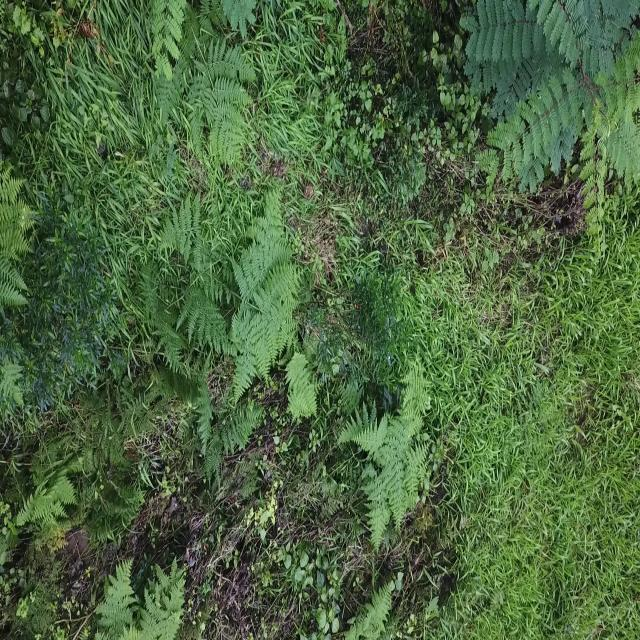Mysore-Thorn-Weed: (462, 0, 640, 218)
